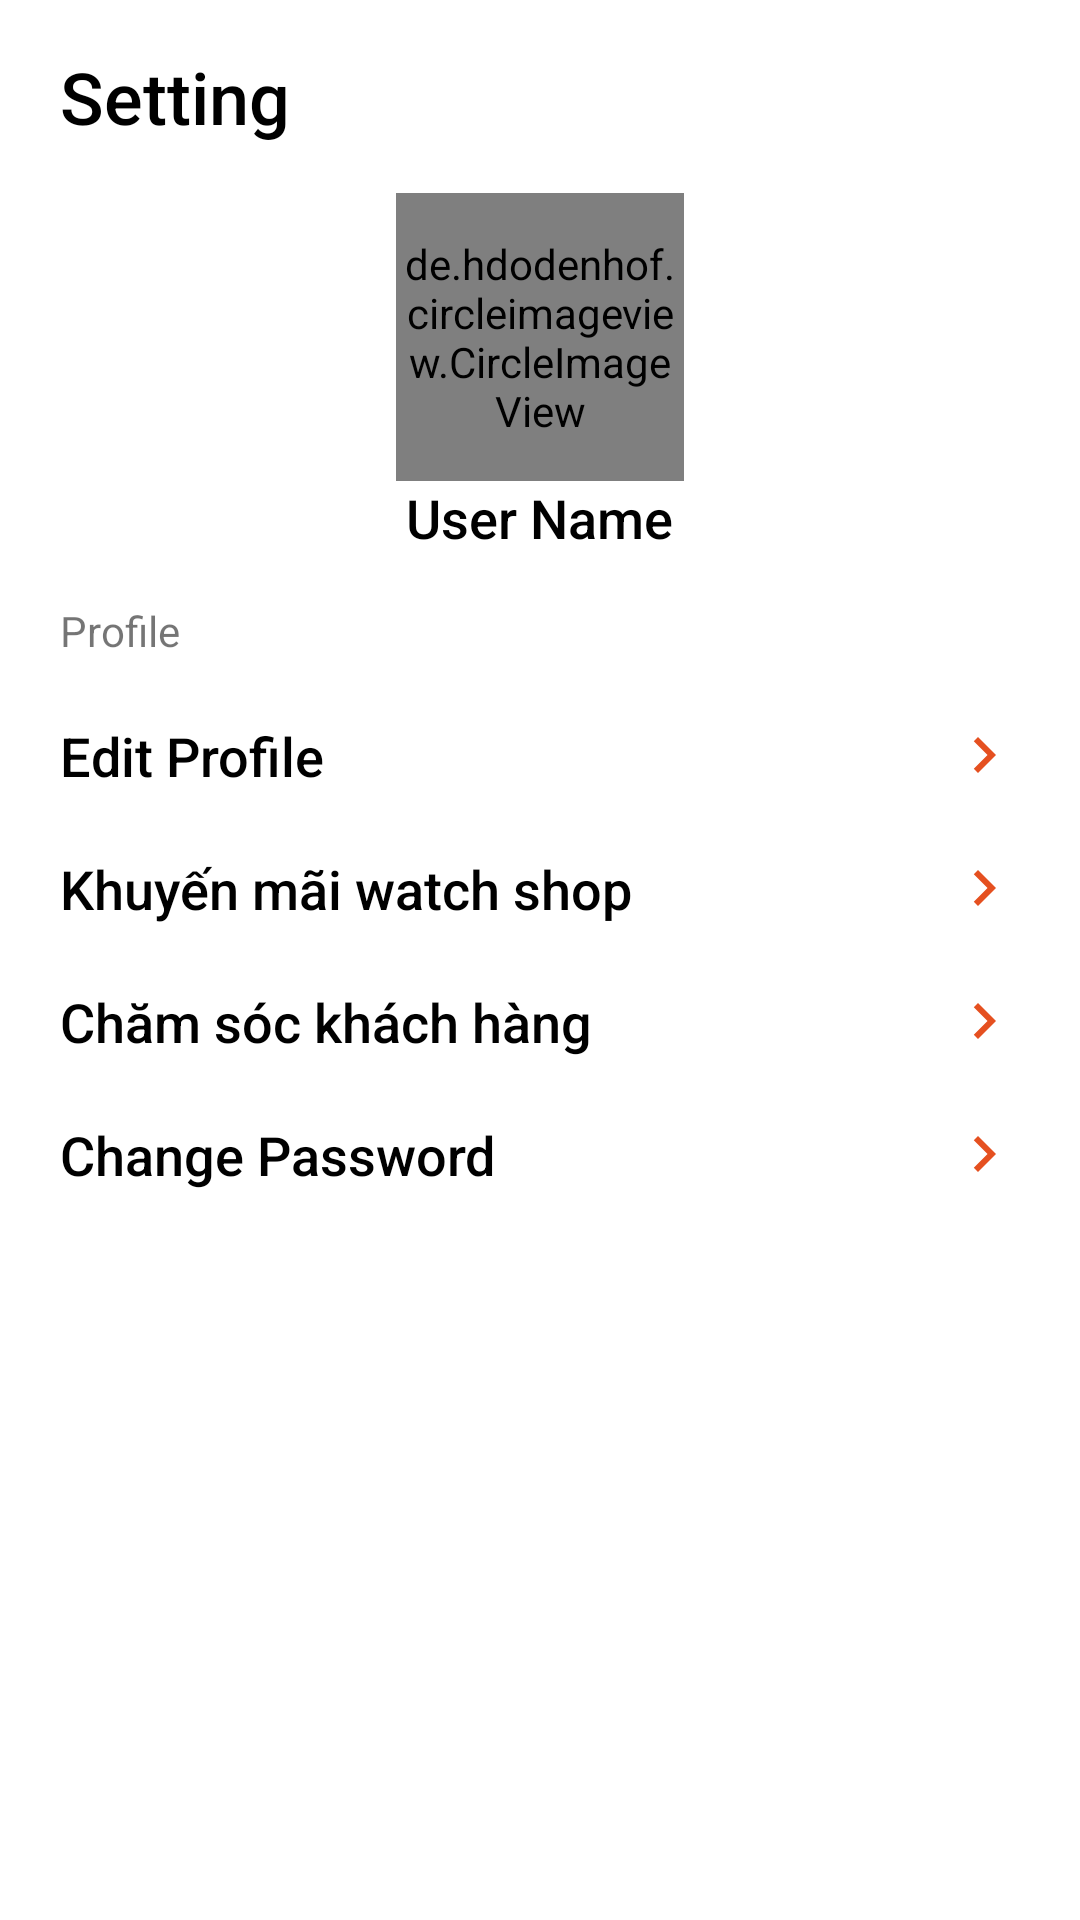

Icons on this 1080×1920 Android screen, each with its box as BBox(x1, y1, x2, y2):
next: BBox(974, 737, 996, 773), BBox(974, 870, 996, 906), BBox(974, 1003, 996, 1039), BBox(974, 1136, 996, 1172)
